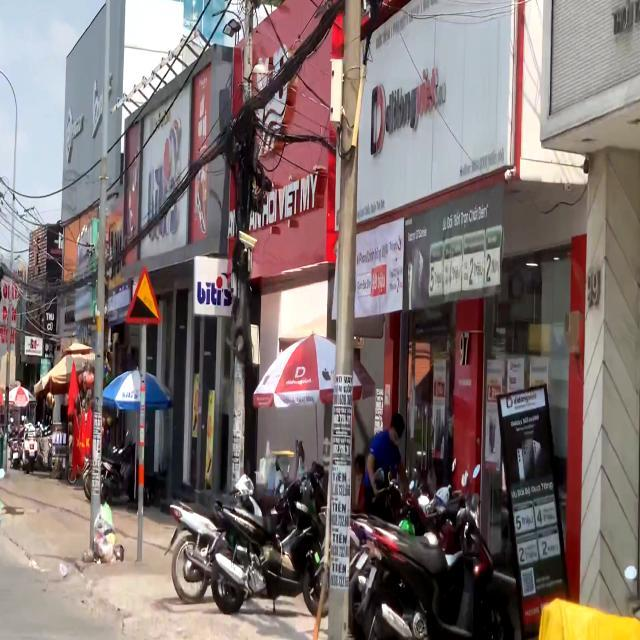W-220: (124, 267, 163, 324)
